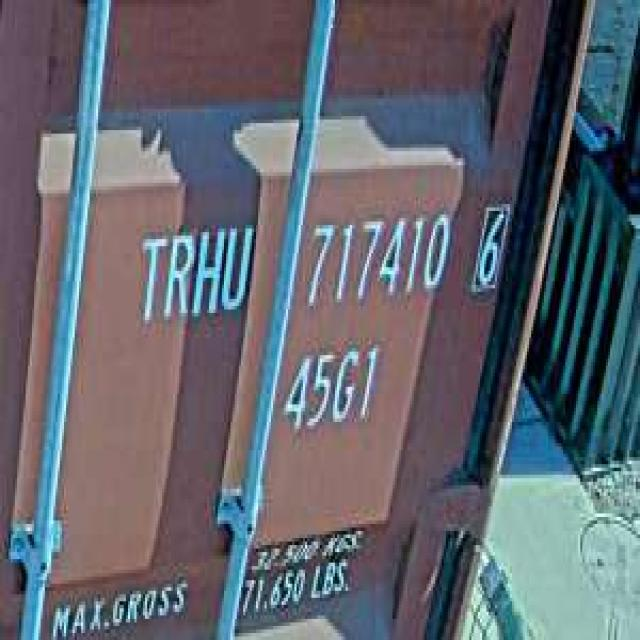dv: (469, 190, 510, 299)
owner: (132, 211, 258, 334)
serial: (301, 200, 452, 313)
size: (279, 334, 382, 440)
